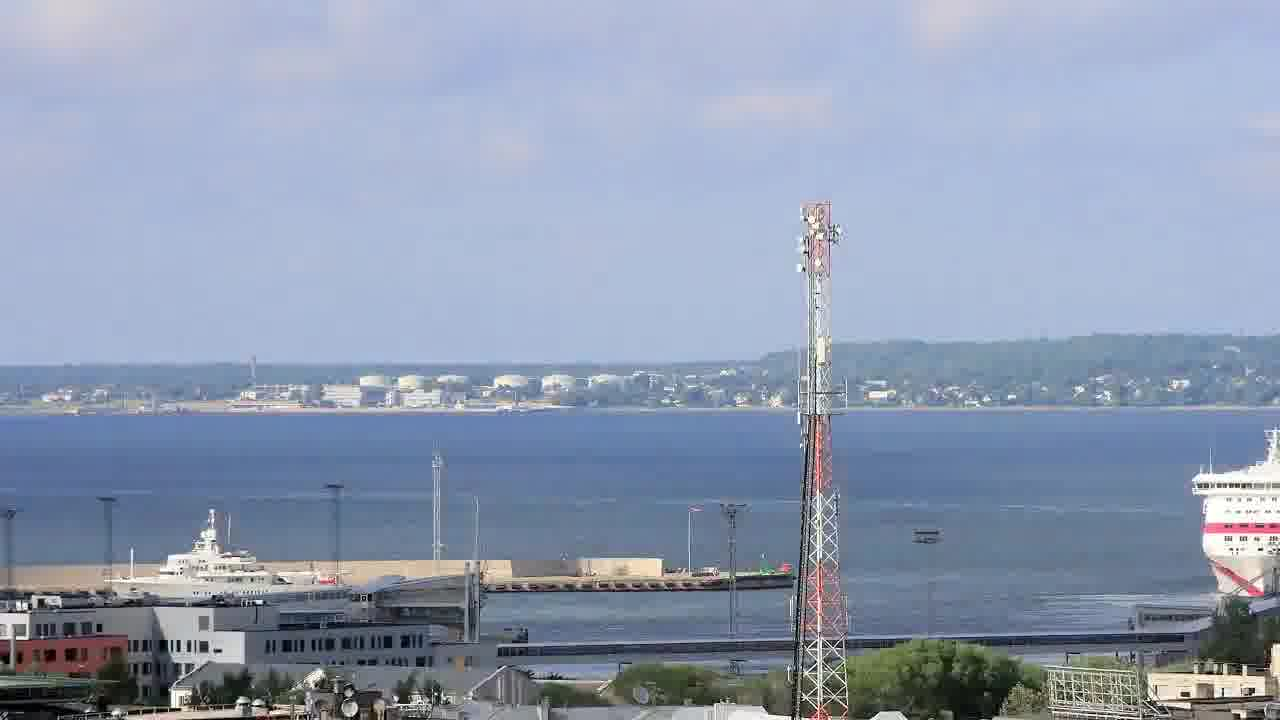type-3: (1135, 386, 1279, 638), (89, 518, 402, 620)
